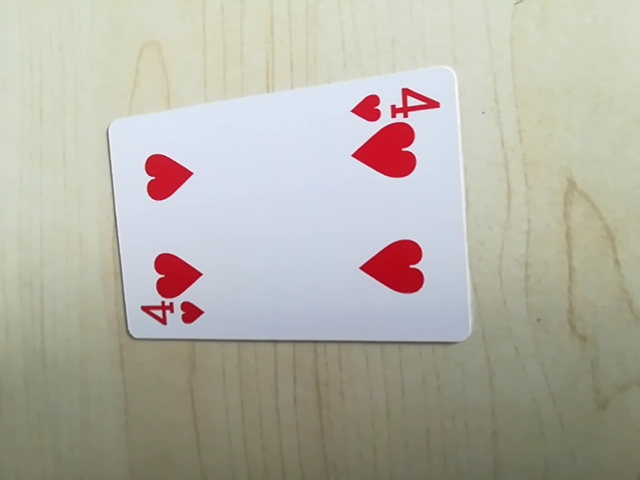hx 4: (348, 82, 442, 127), (134, 297, 204, 333)
